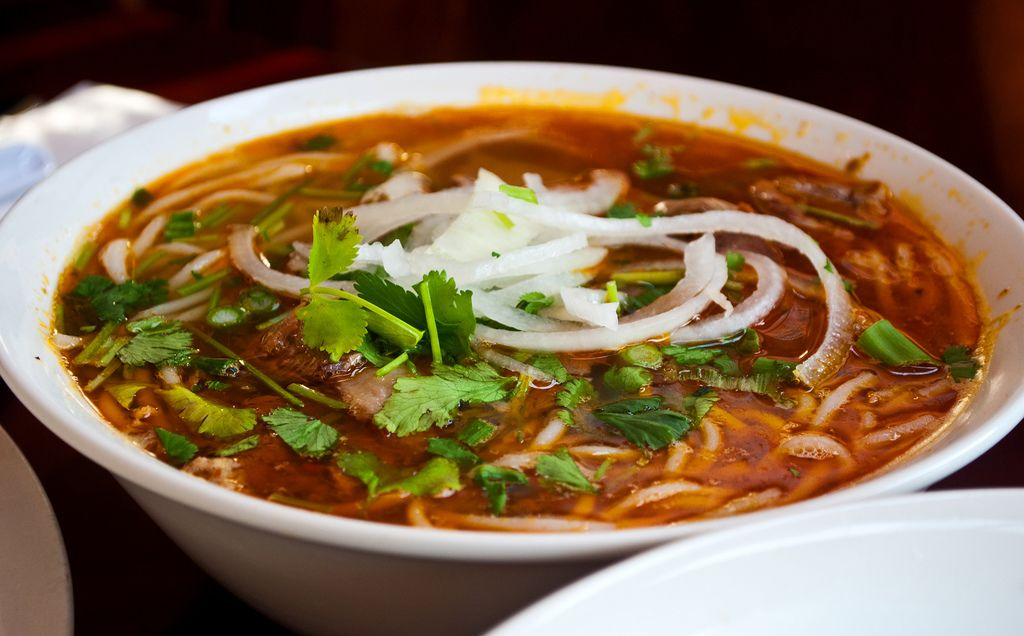onion: (332, 181, 666, 331)
